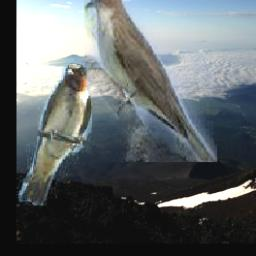Cuckoo: (85, 0, 218, 162)
Swallow: (16, 59, 92, 206)
